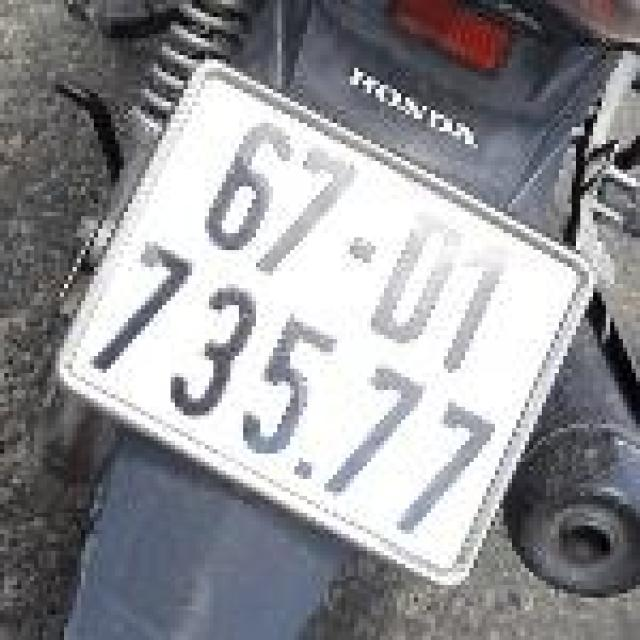1: (419, 228, 521, 388)
3: (149, 268, 276, 438)
5: (226, 302, 347, 473)
6: (191, 110, 307, 271)
7: (82, 226, 204, 400), (311, 353, 433, 516), (387, 390, 504, 559), (249, 140, 366, 292)
D: (355, 200, 476, 365)
